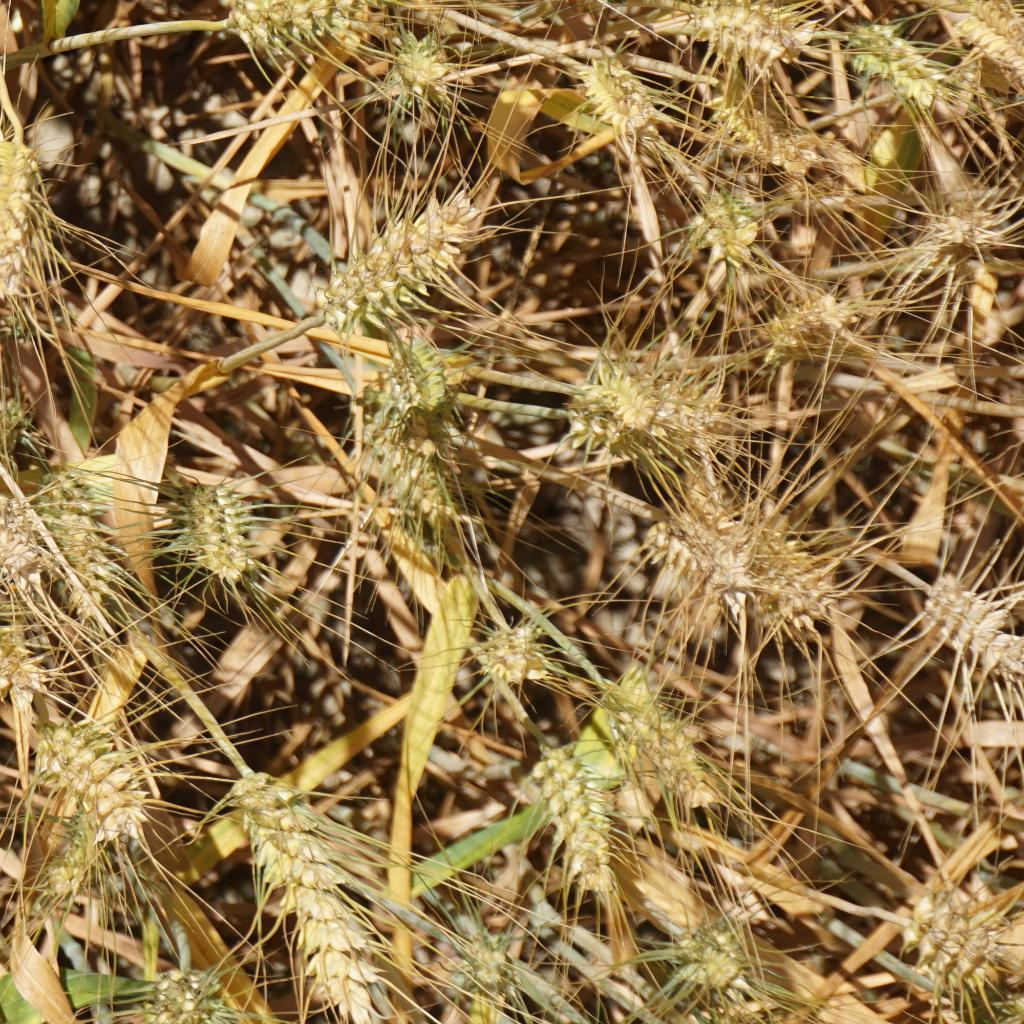0-0: (230, 760, 392, 1020), (325, 206, 463, 312), (24, 709, 144, 827), (732, 527, 851, 638), (755, 287, 879, 389), (894, 891, 1004, 1004), (31, 460, 115, 601), (362, 435, 472, 537), (536, 738, 615, 879), (172, 472, 260, 591), (612, 695, 705, 804), (911, 183, 1009, 274), (227, 0, 418, 45), (0, 129, 49, 300), (923, 568, 1015, 659), (854, 29, 956, 111), (689, 0, 804, 69), (661, 917, 758, 996), (385, 328, 463, 415), (948, 0, 1024, 82), (728, 98, 812, 172), (32, 803, 98, 897), (135, 960, 226, 1024), (380, 29, 460, 100), (581, 55, 651, 136), (699, 179, 768, 260), (490, 611, 559, 692), (647, 513, 713, 594), (685, 432, 739, 516), (463, 924, 528, 991), (0, 576, 34, 696), (594, 374, 674, 422), (0, 390, 37, 484), (0, 466, 25, 577)
